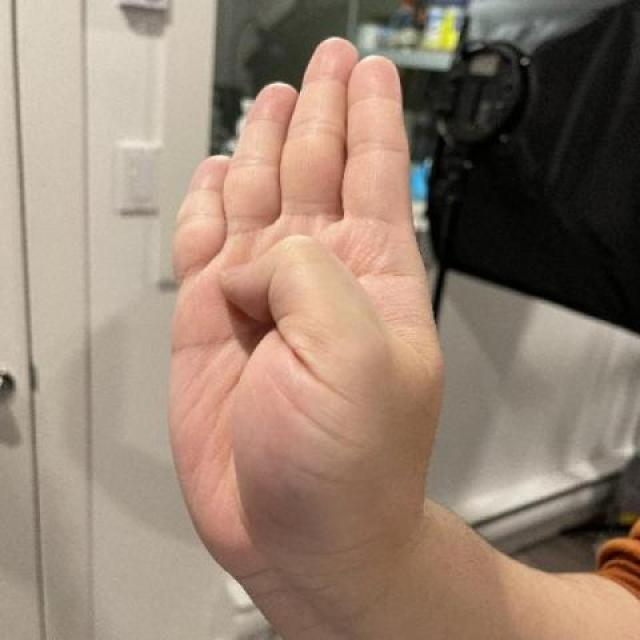Open Hand: (158, 32, 481, 640)
